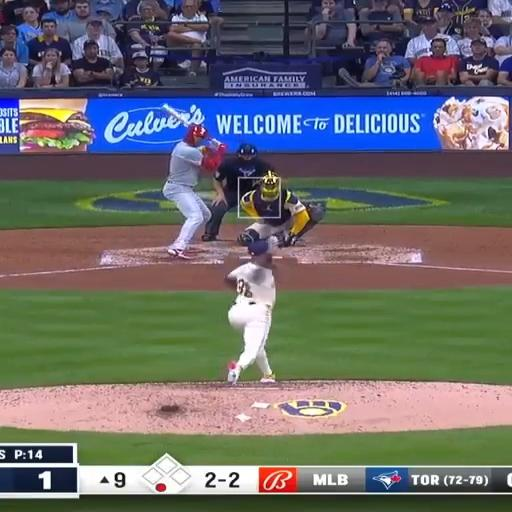bat: (161, 104, 190, 127)
